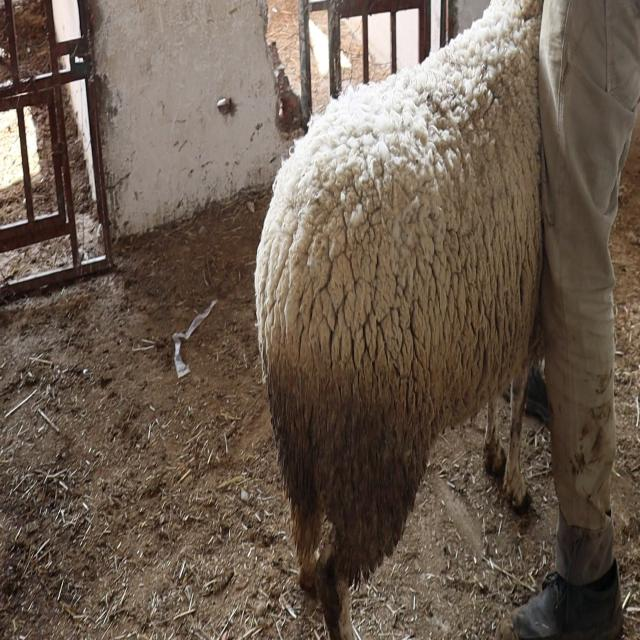Score_5: (254, 0, 544, 639)
